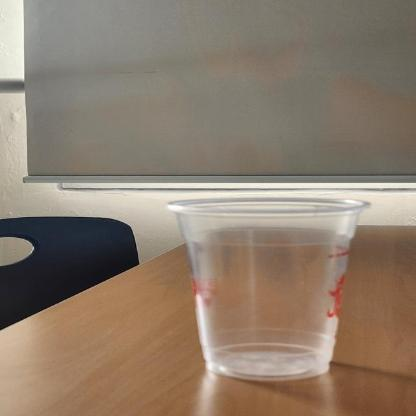Plastic Cup: (167, 196, 373, 378)
